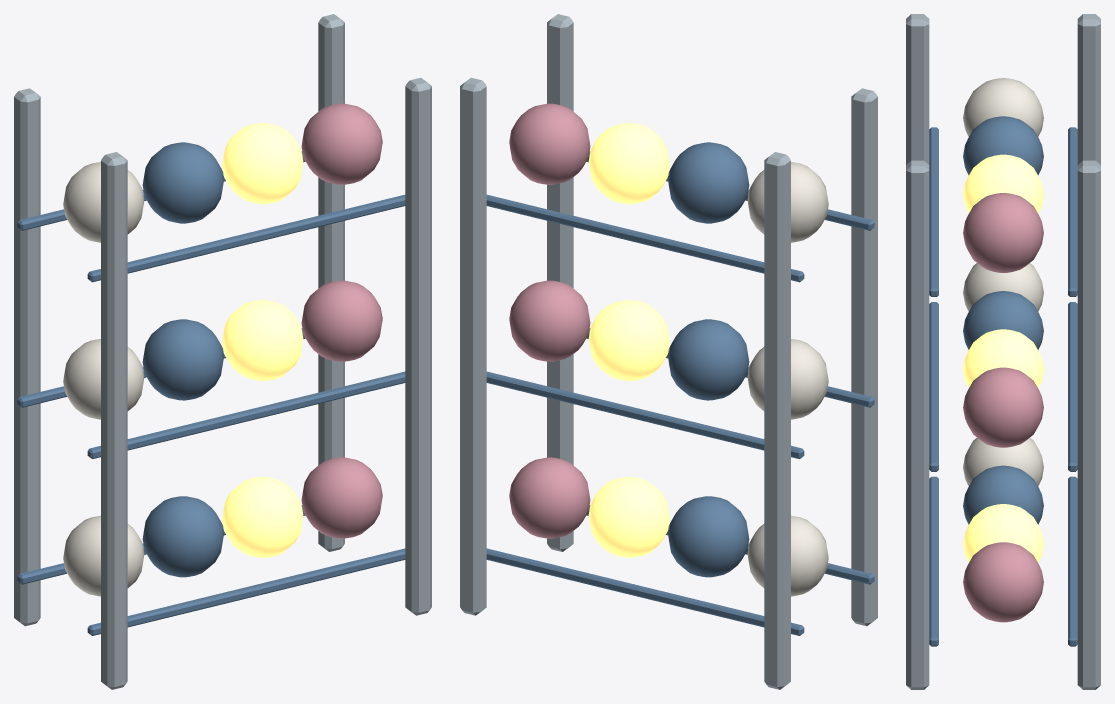
The model's file is campus_10.glb.
3 renders of one model, left to right at view 1: azimuth 30°, elevation 25°; view 2: azimuth 150°, elevation 25°; view 3: azimuth 270°, elevation 25°, orthographic.
Visible parts, largest first — view 1: Ball (×12), Leg (×4), BallRackFront (×3), BallRackBack (×3); view 2: Ball (×12), Leg (×4), BallRackBack (×3), BallRackFront (×3); view 3: Ball (×12), Leg (×4), BallRackFront (×3), BallRackBack (×3).
Boxes of the visible parts, bbox=[...] form: Ball (×12): bbox=[63, 103, 382, 596]; Leg (×4): bbox=[14, 14, 431, 689]; BallRackFront (×3): bbox=[87, 194, 405, 635]; BallRackBack (×3): bbox=[17, 151, 305, 584]; Ball (×12): bbox=[509, 103, 828, 596]; Leg (×4): bbox=[460, 14, 877, 689]; BallRackBack (×3): bbox=[486, 194, 804, 635]; BallRackFront (×3): bbox=[586, 151, 874, 584]; Ball (×12): bbox=[963, 78, 1043, 622]; Leg (×4): bbox=[906, 14, 1100, 689]; BallRackFront (×3): bbox=[929, 127, 938, 646]; BallRackBack (×3): bbox=[1068, 127, 1077, 646].
Bounding box in the file's own units: 1 × 1.5 × 0.5055.
